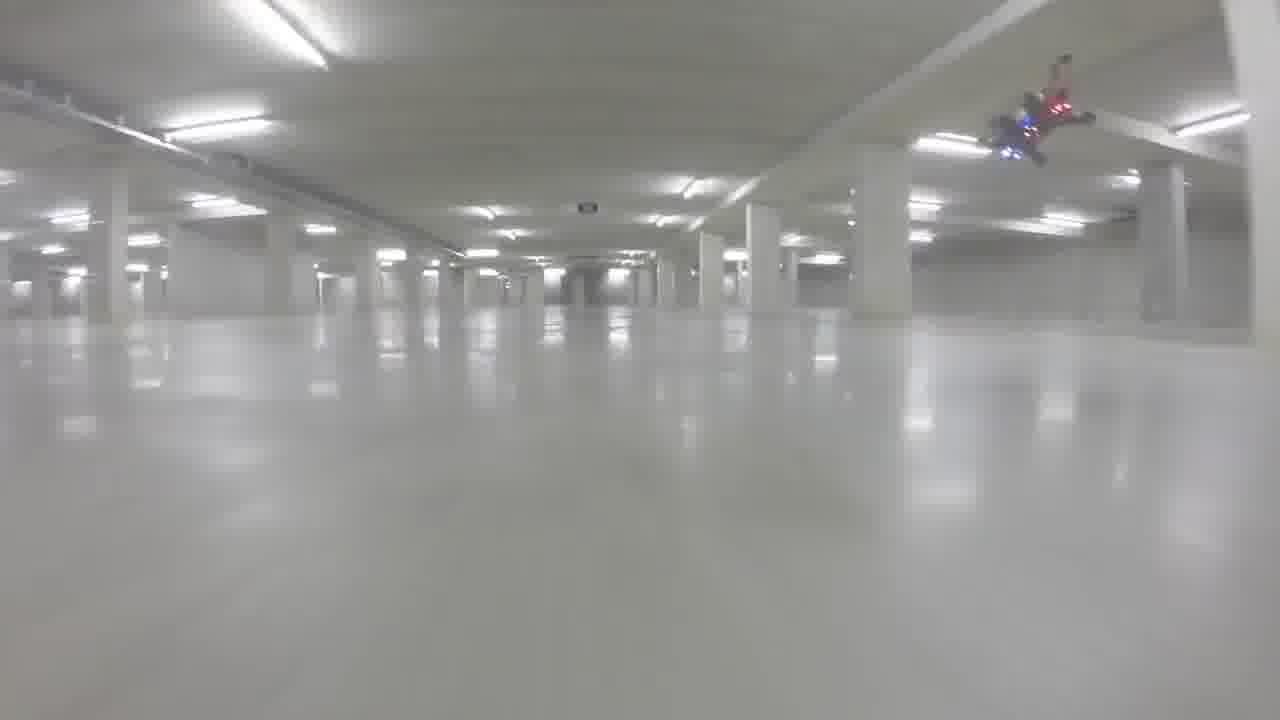drone: (947, 49, 1100, 167)
